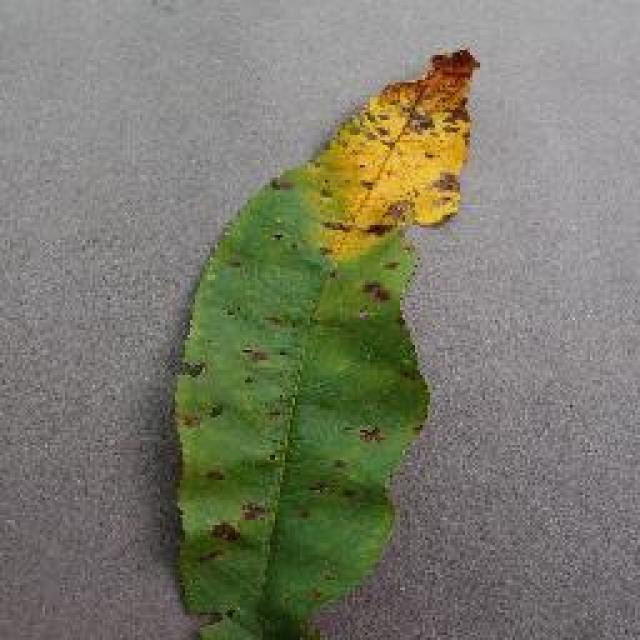Bacterial_spot: (160, 30, 482, 640)
